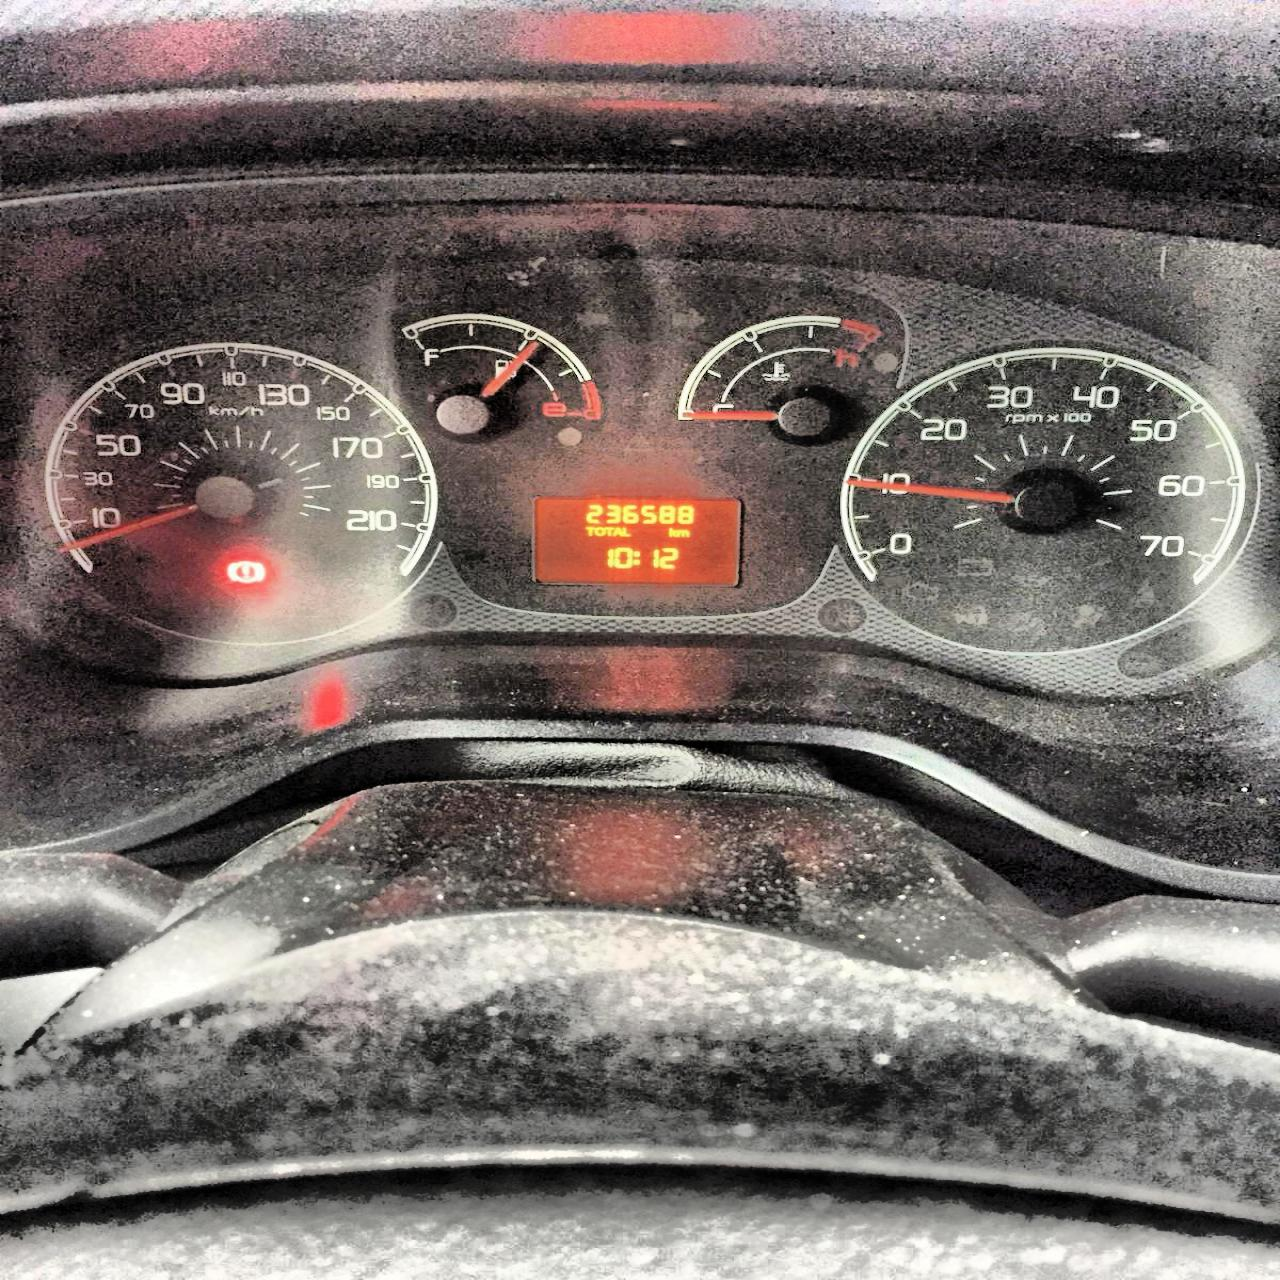0: (613, 545, 633, 568)
1: (651, 547, 659, 568), (605, 546, 612, 568)
2: (660, 546, 680, 568), (585, 502, 602, 523)
3: (605, 502, 621, 524)
5: (641, 504, 658, 524)
6: (622, 502, 639, 524)
8: (658, 504, 675, 524), (676, 504, 694, 523)
X: (633, 549, 641, 566), (675, 529, 690, 538), (584, 525, 594, 537), (621, 526, 631, 537), (668, 526, 676, 538), (594, 526, 604, 536), (604, 526, 613, 536), (613, 526, 621, 536)
odometer: (529, 492, 742, 586)
